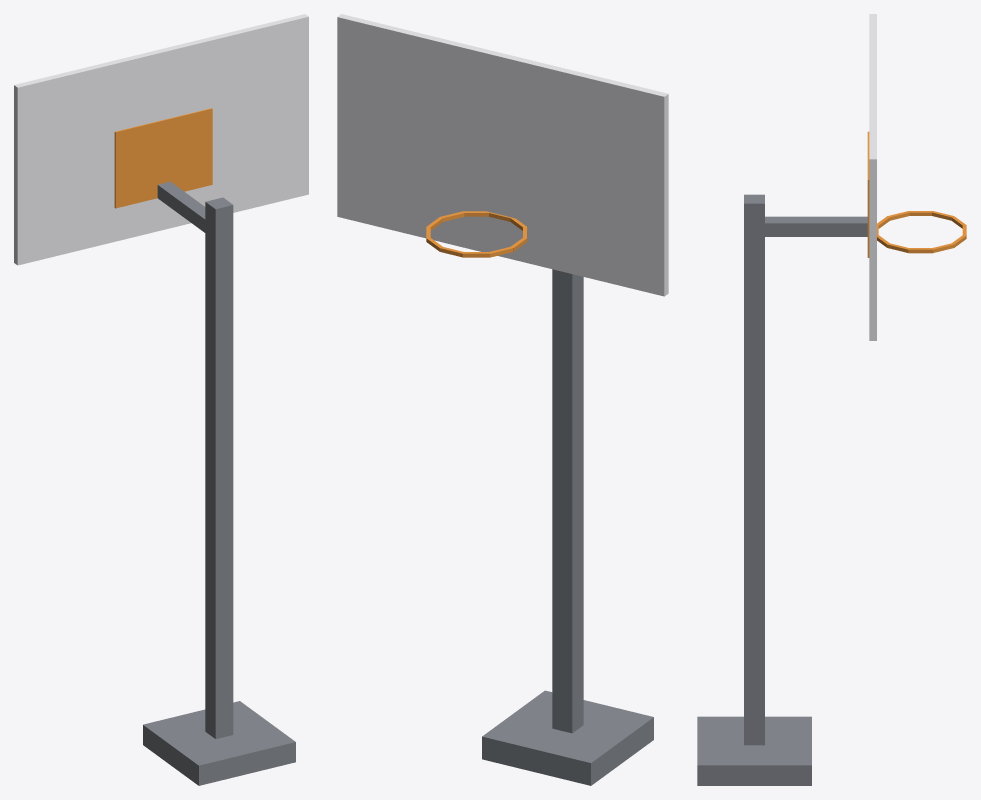
Rendered from hoop.glb.
3 views of the same model, side by side, from view 1: azimuth 30°, elevation 25°; view 2: azimuth 150°, elevation 25°; view 3: azimuth 270°, elevation 25° (orthographic). The views are drawn at different scales.
Visible parts, largest first — view 1: board, pole, base, square, arm; view 2: board, pole, base; view 3: pole, base, board, arm.
Boxes of the visible parts, left/top/right/bottom form: board: left=14, top=14, right=308, bottom=265; pole: left=205, top=197, right=233, bottom=738; base: left=143, top=701, right=295, bottom=785; square: left=114, top=108, right=212, bottom=208; arm: left=157, top=181, right=205, bottom=232; board: left=337, top=14, right=668, bottom=296; pole: left=552, top=269, right=583, bottom=733; base: left=482, top=690, right=653, bottom=785; pole: left=744, top=194, right=764, bottom=745; base: left=697, top=716, right=811, bottom=785; board: left=869, top=14, right=876, bottom=340; arm: left=765, top=216, right=867, bottom=236.
Size of the model in its own units: 1.8 by 3.9 by 1.41.
